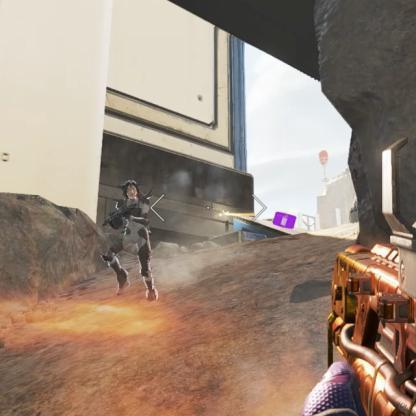avatar: (101, 178, 158, 304)
